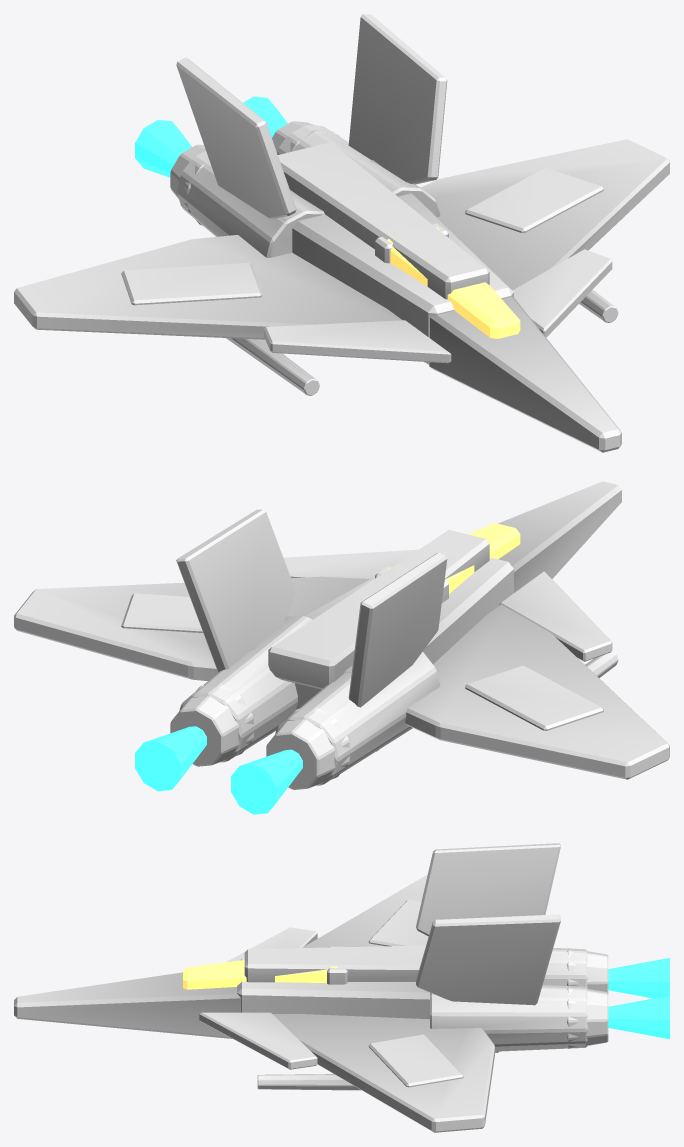
Rendered from e1_wasp_dart.glb.
3 views of the same model, one above another, from view 1: azimuth 30°, elevation 25°; view 2: azimuth 150°, elevation 25°; view 3: azimuth 270°, elevation 25° (orthographic). The views are drawn at different scales.
Parts seen in each view (by area): view 1: MainWing_L, MainWing_R, NoseCone, TailFin_R, SpineTrim, TailFin_L, MidFuselage, Canard_L, Engine_L, WingTrim_L, WingTrim_R, Canard_R (+7 smaller); view 2: MainWing_L, MainWing_R, TailFin_R, TailFin_L, SpineTrim, Engine_L, NoseCone, Engine_R, MidFuselage, WingTrim_L, Canard_L, Nozzle_R (+7 smaller); view 3: MainWing_R, TailFin_R, TailFin_L, NoseCone, Engine_R, MidFuselage, SpineTrim, Canard_R, WingTrim_R, MainWing_L, Canopy, Core_Pulse_R (+7 smaller).
Part boxes in pixels (x1,y1,x2,y2): MainWing_L: [14, 235, 402, 339]; MainWing_R: [420, 139, 669, 290]; NoseCone: [429, 296, 621, 452]; TailFin_R: [348, 14, 447, 184]; SpineTrim: [278, 142, 489, 299]; TailFin_L: [176, 57, 296, 218]; MidFuselage: [290, 160, 513, 364]; Canard_L: [264, 320, 451, 363]; Engine_L: [177, 151, 324, 257]; WingTrim_L: [121, 263, 262, 305]; WingTrim_R: [465, 167, 603, 232]; Canard_R: [513, 249, 612, 337]; MainWing_L: [405, 604, 669, 779]; MainWing_R: [14, 576, 370, 680]; TailFin_R: [176, 509, 296, 672]; TailFin_L: [348, 552, 447, 707]; SpineTrim: [268, 530, 489, 689]; Engine_L: [275, 651, 440, 785]; NoseCone: [498, 481, 621, 592]; Engine_R: [179, 616, 312, 762]; MidFuselage: [252, 557, 513, 751]; WingTrim_L: [465, 665, 603, 730]; Canard_L: [499, 571, 612, 661]; Nozzle_R: [170, 684, 253, 766]; MainWing_R: [273, 1014, 494, 1132]; TailFin_R: [416, 914, 560, 1005]; TailFin_L: [416, 843, 560, 936]; NoseCone: [14, 972, 240, 1038]; Engine_R: [430, 985, 587, 1051]; MidFuselage: [237, 958, 498, 1052]; SpineTrim: [244, 945, 425, 982]; Canard_R: [199, 1012, 317, 1069]; WingTrim_R: [368, 1034, 463, 1087]; MainWing_L: [302, 874, 427, 947]; Canopy: [183, 960, 337, 989]; Core_Pulse_R: [608, 995, 669, 1039].
Size of the model in its own units: 2.26 by 0.6418 by 2.5.
